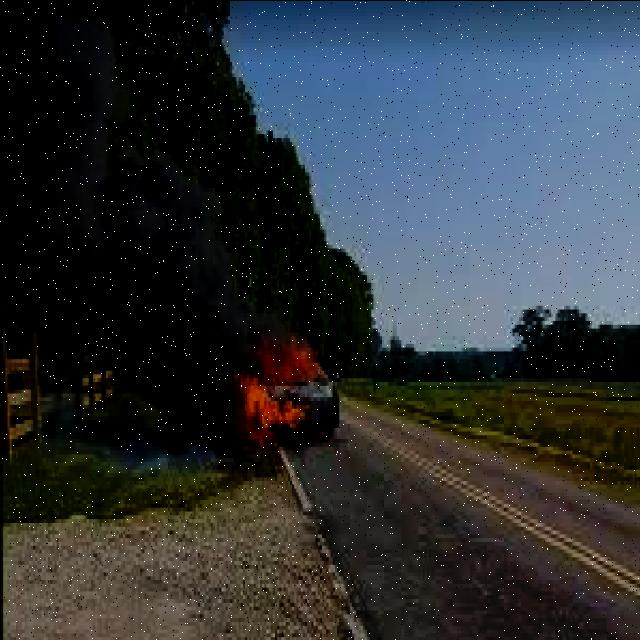api: (221, 325, 335, 447)
